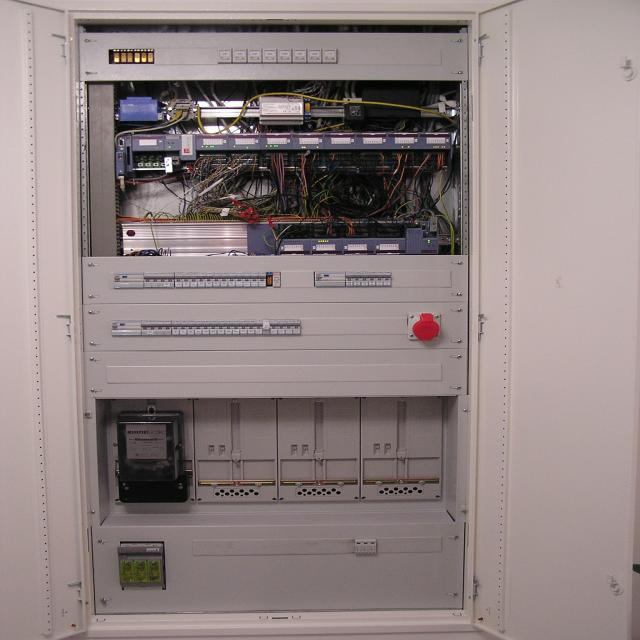Dimmer: (259, 97, 303, 120), (321, 47, 337, 63), (292, 48, 308, 63), (266, 272, 281, 287), (217, 48, 232, 62), (307, 48, 322, 62), (261, 48, 277, 61), (232, 48, 246, 62), (277, 48, 291, 62), (248, 48, 261, 62)
FI: (315, 271, 345, 287), (114, 273, 144, 288), (111, 321, 141, 336)
Leitungsschutzschalter: (197, 272, 205, 288), (182, 272, 190, 288), (277, 320, 286, 334), (254, 320, 263, 334), (141, 321, 150, 335), (258, 272, 266, 287), (250, 272, 258, 287), (243, 272, 251, 287), (220, 272, 228, 287), (190, 273, 198, 288), (151, 273, 159, 288), (383, 271, 391, 286), (353, 272, 361, 287), (239, 320, 247, 335), (232, 320, 240, 335), (224, 320, 232, 335), (194, 320, 202, 335), (172, 320, 180, 335), (212, 273, 220, 287), (159, 273, 167, 287), (345, 272, 353, 286), (293, 320, 301, 334), (285, 320, 293, 334), (270, 320, 278, 334), (247, 320, 255, 334), (149, 321, 157, 335), (236, 272, 243, 287), (228, 272, 235, 287), (205, 272, 212, 287), (175, 273, 182, 288), (167, 273, 174, 288), (376, 271, 383, 286), (361, 271, 368, 286), (210, 320, 217, 335), (202, 320, 209, 335), (164, 320, 171, 335), (157, 320, 164, 335), (144, 273, 151, 287), (187, 321, 194, 335), (180, 321, 187, 335), (369, 271, 375, 286), (218, 320, 224, 335)
SPS_System_Steuerungskomponente: (164, 134, 196, 160), (406, 228, 438, 254), (115, 136, 133, 179), (132, 133, 165, 151), (373, 237, 407, 254), (259, 133, 292, 150), (418, 132, 451, 149), (310, 238, 343, 255), (324, 133, 357, 149), (355, 133, 388, 149), (388, 132, 419, 149), (196, 134, 228, 150), (228, 134, 260, 150), (292, 133, 324, 149), (342, 239, 374, 255), (279, 239, 311, 255)
